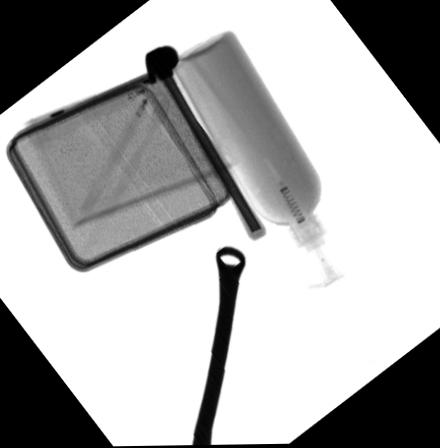Hammer: (144, 46, 265, 242)
Wrench: (191, 247, 244, 446)
